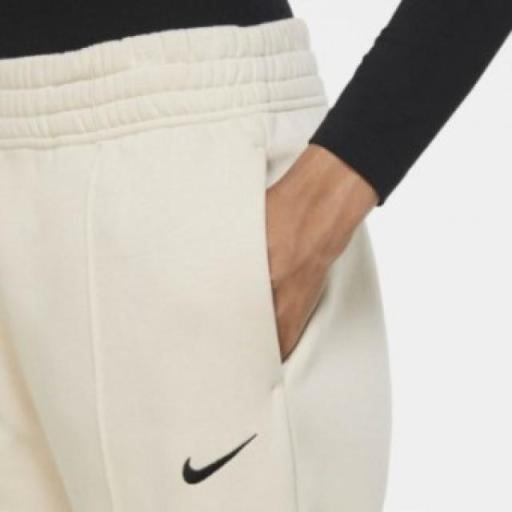Nike: (175, 431, 267, 488)
